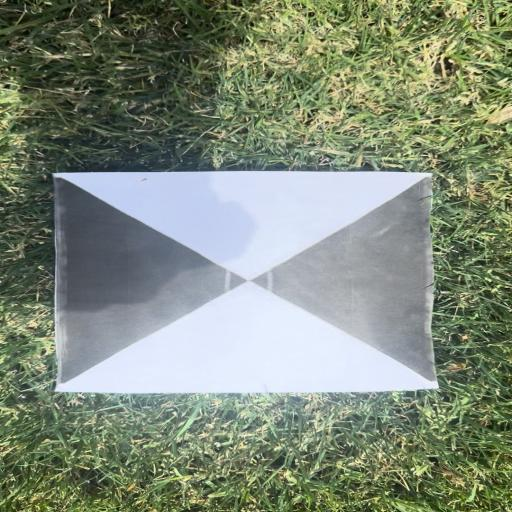target: (54, 173, 440, 389)
